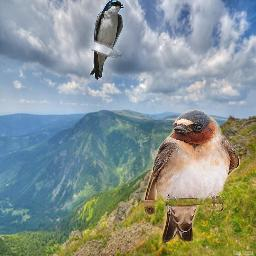Swallow: (144, 109, 240, 243), (90, 0, 125, 80)
